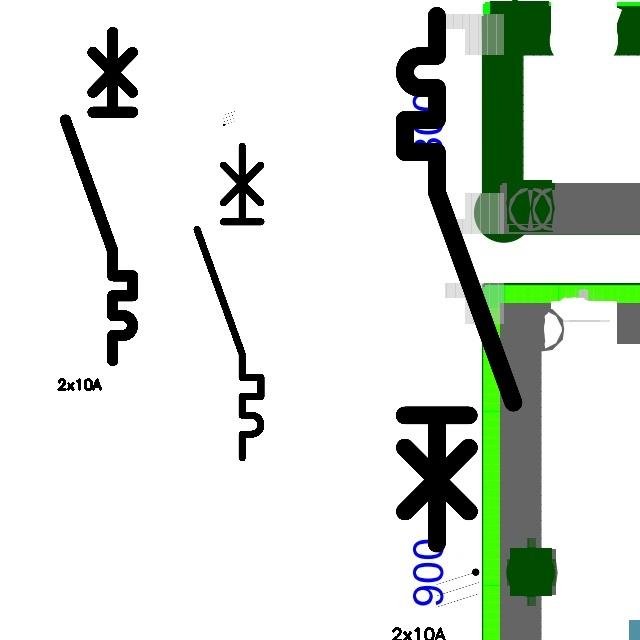interruptor_termomagnetico: (391, 2, 527, 557), (57, 24, 141, 369), (189, 138, 269, 466)
